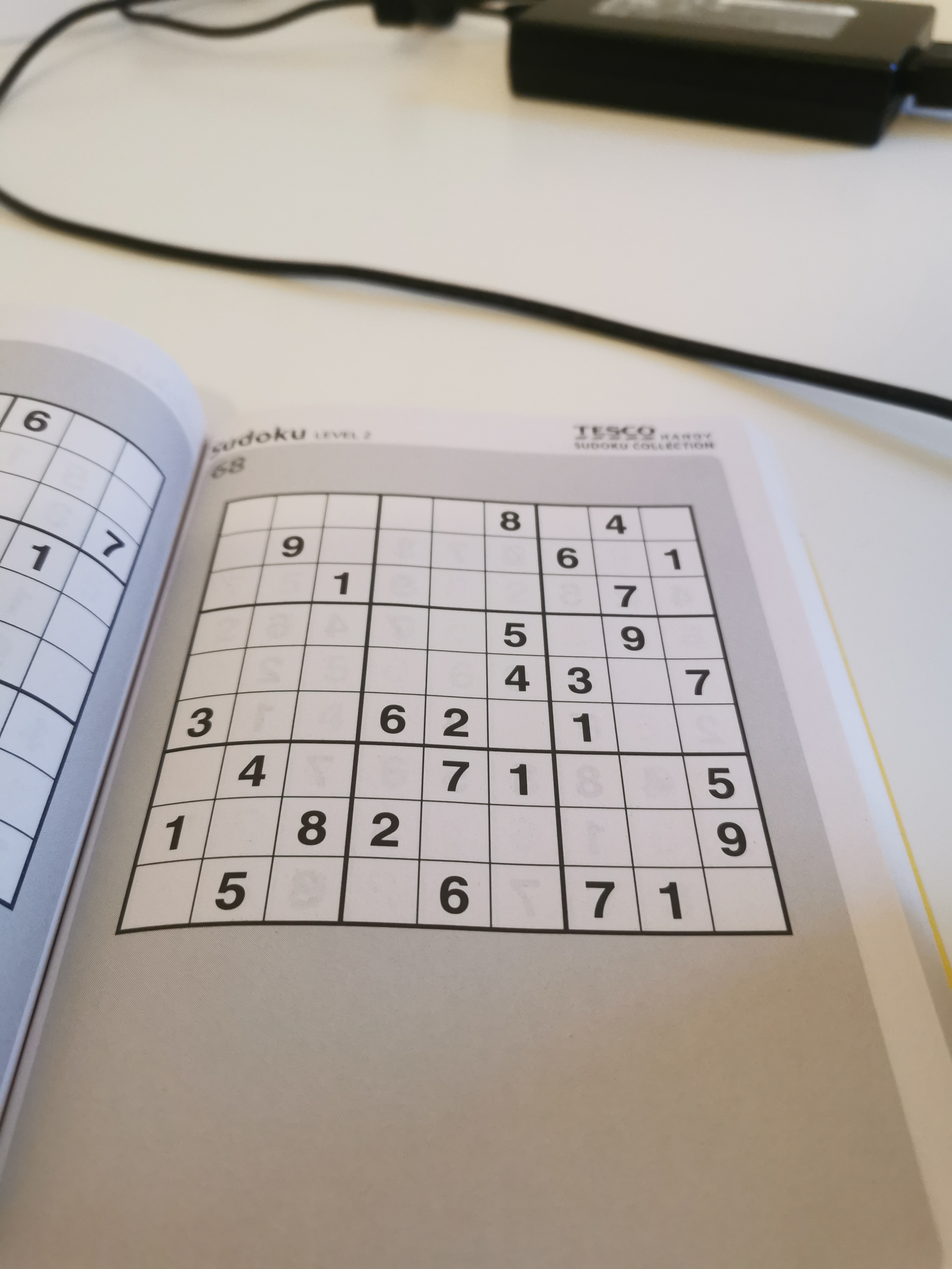sudoku: (98, 483, 797, 937)
